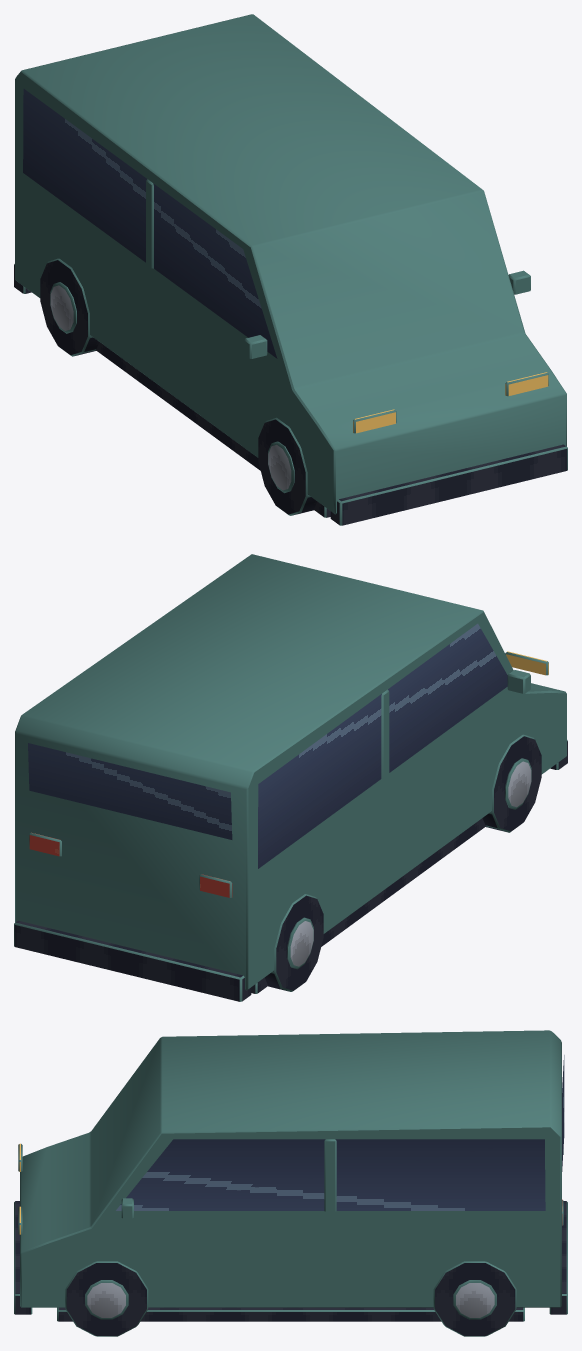
The model's file is car_5.glb.
3 renders of one model, top to bottom at view 1: azimuth 30°, elevation 25°; view 2: azimuth 150°, elevation 25°; view 3: azimuth 270°, elevation 25°, orthographic. The views are drawn at different scales.
Visible parts, largest first — view 1: car_6; view 2: car_6; view 3: car_6.
Part boxes in pixels (x1=…): car_6: x1=14, y1=14, x2=567, y2=525; car_6: x1=14, y1=554, x2=567, y2=1001; car_6: x1=14, y1=1030, x2=567, y2=1336.
Size of the model in its own units: 2.23 by 1.89 by 4.5.
Materials: 6 (6 with a texture image).
